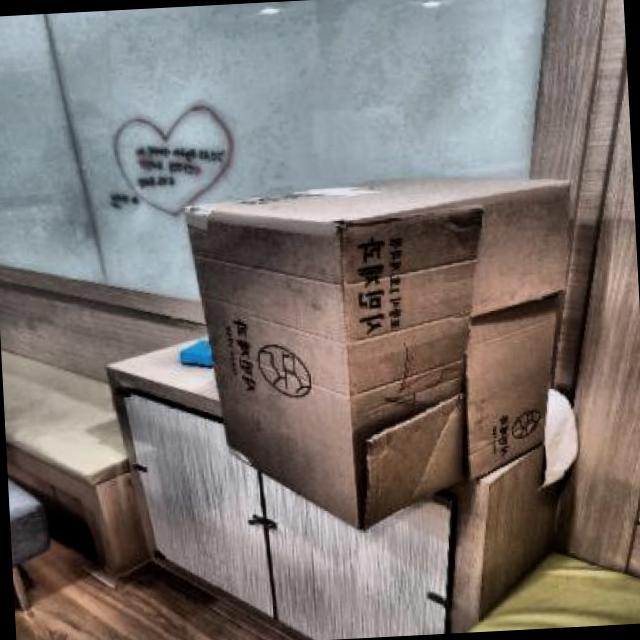box: (170, 153, 598, 547)
